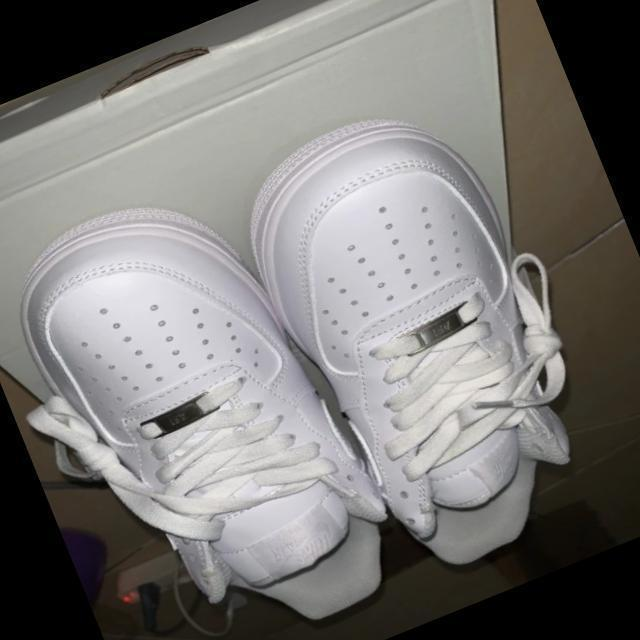nike original air force: (220, 78, 623, 594), (0, 157, 420, 640)
